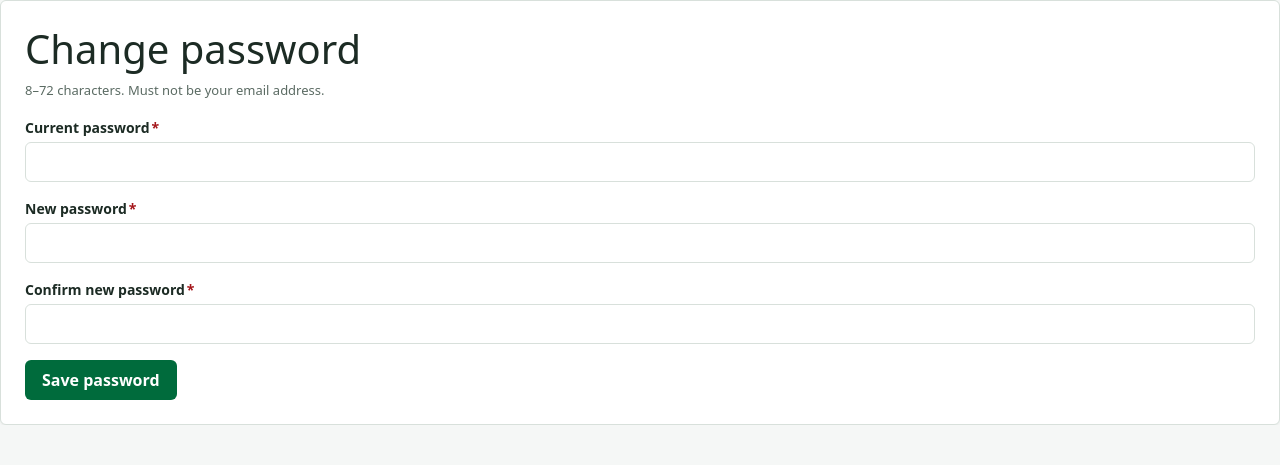
UI-05 the rules, field by field › rejects too short beneath its field and sends nothing
Step 1. Type "Toktickit#2026" into the password field labelled "Current password*" → {"x": 640, "y": 162}, box [25, 142, 1255, 182]
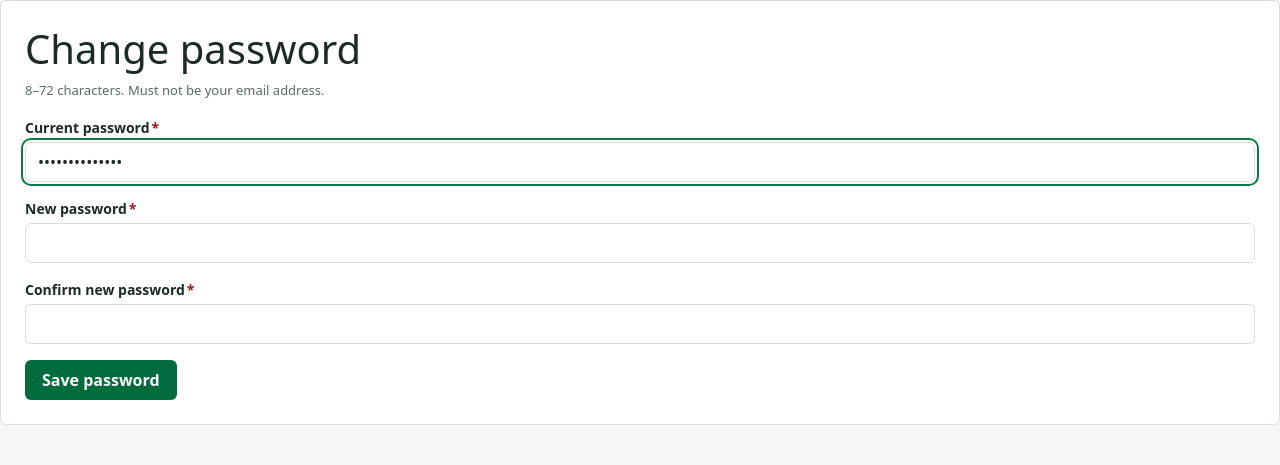
Step 2. Type "short-7" into the password field labelled "New password*" → {"x": 640, "y": 242}, box [25, 222, 1255, 262]
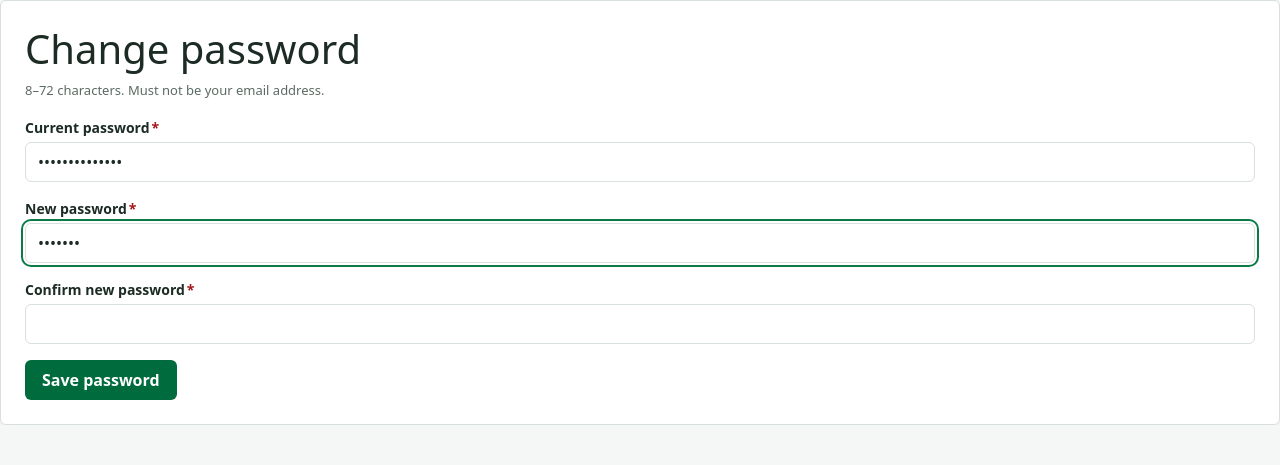
Step 3. Type "short-7" into the password field labelled "Confirm new password*" → {"x": 640, "y": 324}, box [25, 304, 1255, 344]
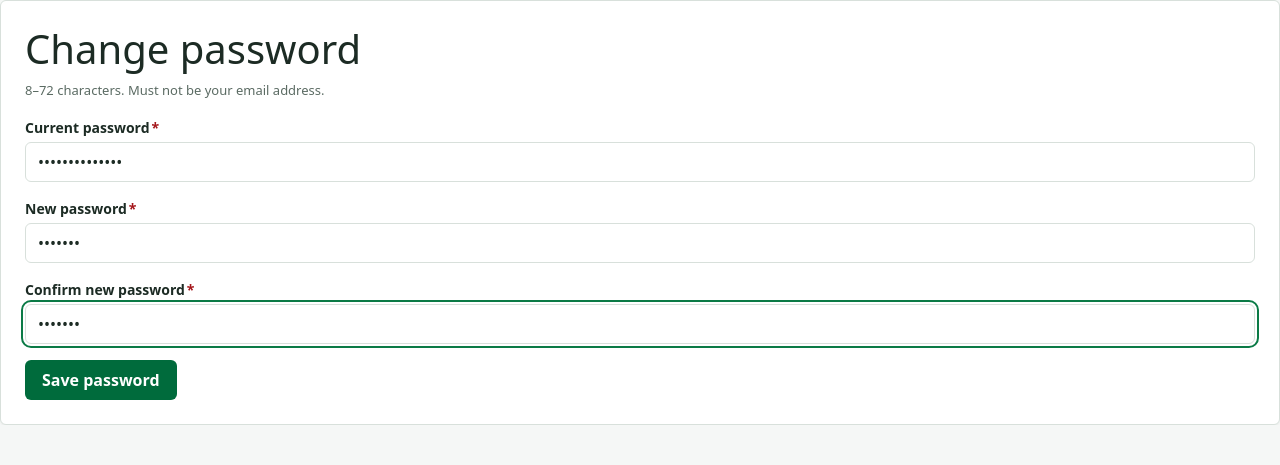
Step 4. Click the button "Save password" → {"x": 101, "y": 380}, box [25, 360, 177, 400]
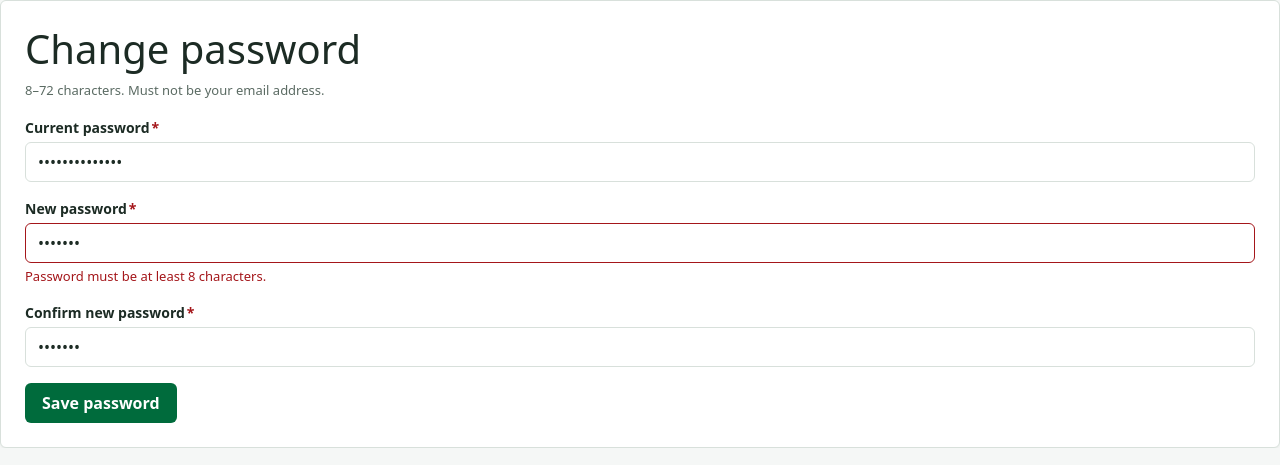
Expected: the text "Password must be at least 8 characters." is shown, [25, 266, 266, 284]
